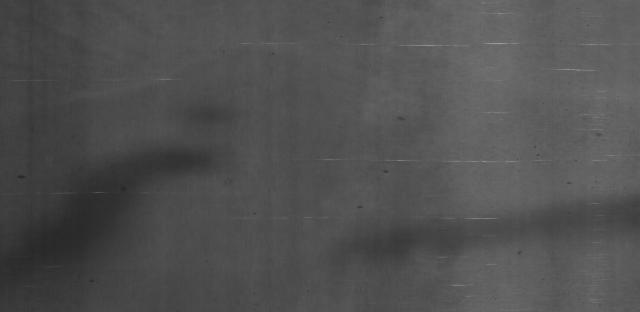waist_folding: (107, 19, 608, 247)
